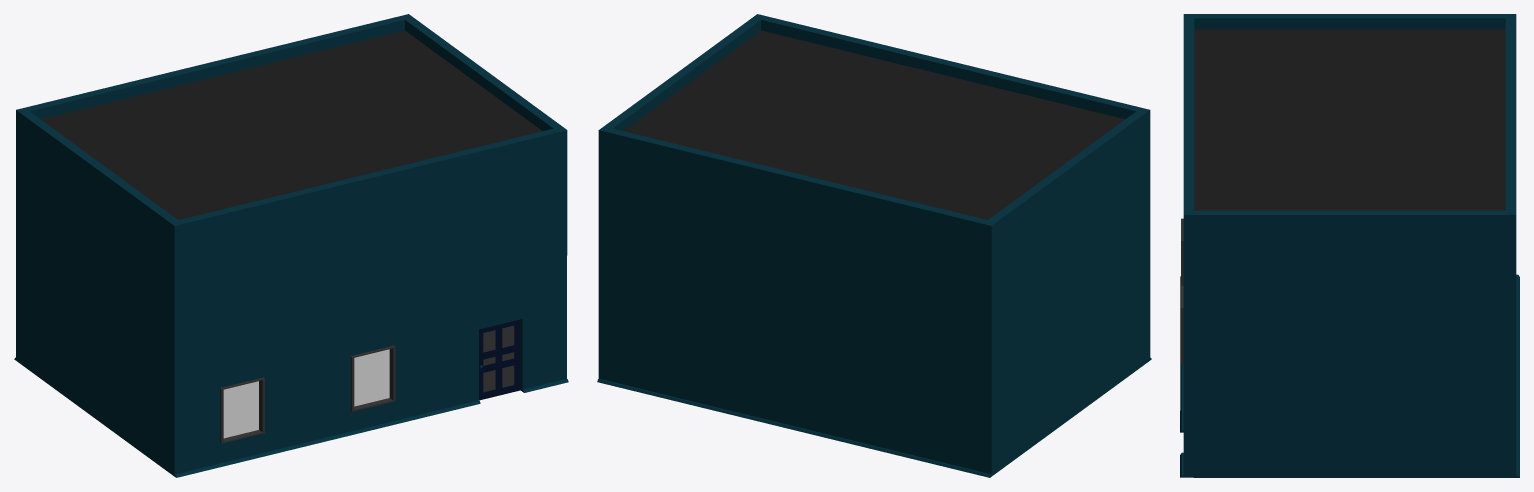
The model's file is side house1.fbx.
3 renders of one model, left to right at view 1: azimuth 30°, elevation 25°; view 2: azimuth 150°, elevation 25°; view 3: azimuth 270°, elevation 25°, orthographic. The views are drawn at different scales.
Parts seen in each view (by area): view 1: door2.006; view 2: door2.006; view 3: door2.006.
Boxes of the visible parts, x1,y1,x2,y2 form: door2.006: (14, 14, 568, 477); door2.006: (597, 14, 1151, 477); door2.006: (1180, 14, 1519, 477).
Bounding box in the file's own units: 90.03 × 54.92 × 64.28.
